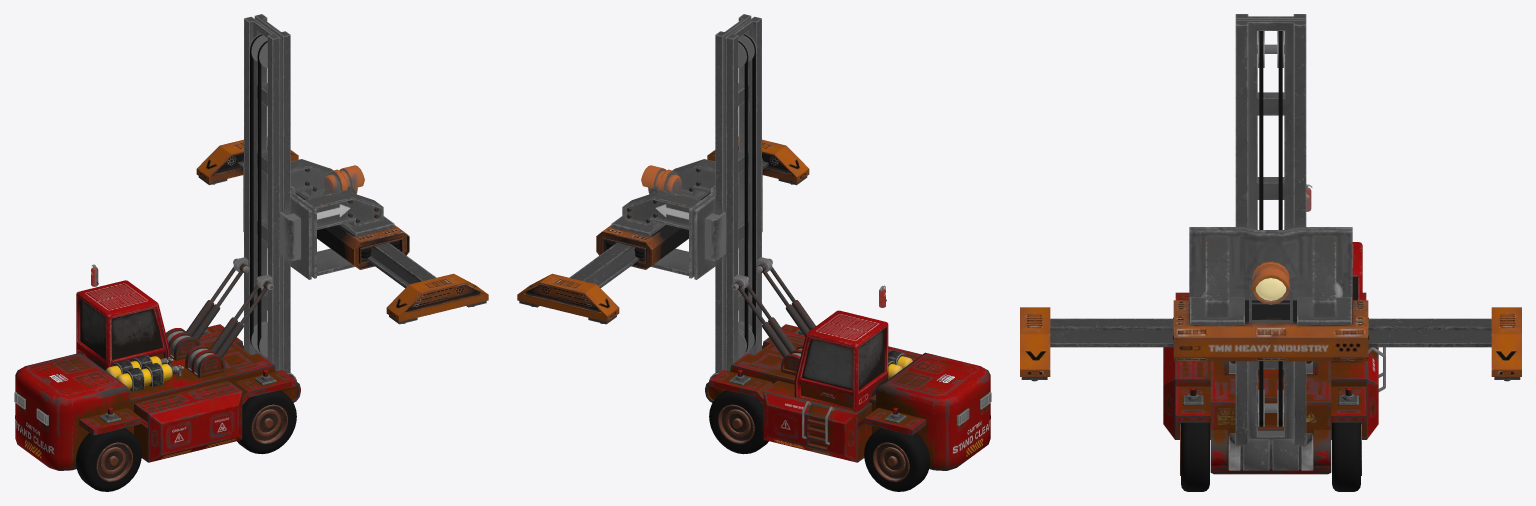
File: container-handler-empty.glb
3 views of the same model, side by side, from view 1: azimuth 30°, elevation 25°; view 2: azimuth 150°, elevation 25°; view 3: azimuth 270°, elevation 25° (orthographic). The views are drawn at different scales.
Visible parts, largest first — view 1: Cube.009, Cube.005, Cube.010, Cylinder.003, Cube.001, Cube.003, Cylinder.008, Cube.012, Cylinder.001, Cube.002, Cylinder.004, Cube.004 (+5 smaller); view 2: Cube.009, Cube.005, Cube.010, Cylinder.003, Cube.001, Cube.003, Cylinder.008, Cube.012, Cube.002, Cylinder.001, Cube.004, Cube (+3 smaller); view 3: Cube.005, Cube.009, Cube.002, Cube.004, Cube, Cube.003, Cube.001, Cylinder.003, Cube.012, Cylinder.008, Cylinder.006, Cylinder (+1 smaller).
Boxes of the visible parts, x1,y1,x2,y2 form: Cube.009: (15,330,300,470); Cube.005: (244,14,296,381); Cube.010: (76,280,169,370); Cylinder.003: (15,390,296,491); Cube.001: (196,137,488,322); Cube.003: (290,159,394,275); Cylinder.008: (250,34,267,353); Cube.012: (79,324,296,435); Cylinder.001: (186,259,271,357); Cube.002: (295,193,409,269); Cylinder.004: (106,355,183,391); Cube.004: (243,163,316,279); Cube.009: (705,330,990,470); Cube.005: (709,14,761,381); Cube.010: (794,310,888,411); Cylinder.003: (709,390,990,491); Cube.001: (517,137,809,322); Cube.003: (611,159,715,275); Cylinder.008: (738,34,755,353); Cube.012: (709,324,926,435); Cube.002: (596,193,710,269); Cylinder.001: (734,259,815,357); Cube.004: (689,163,762,279); Cube: (569,158,768,288); Cube.005: (1228,14,1313,470); Cube.009: (1163,347,1378,474); Cube.002: (1173,300,1368,361); Cube.004: (1189,227,1352,300); Cube: (1050,318,1491,347); Cube.003: (1190,236,1351,324); Cube.001: (1020,307,1521,376); Cylinder.003: (1180,423,1361,491); Cube.012: (1175,292,1366,422); Cylinder.008: (1259,31,1282,426); Cylinder.006: (1252,261,1289,304); Cylinder: (1257,31,1284,426).
Size of the model in its own units: 8.51 by 8.97 by 8.34.
5 materials, 5 textured.
